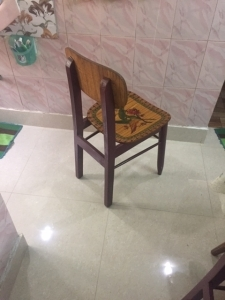chair: (65, 47, 172, 208)
